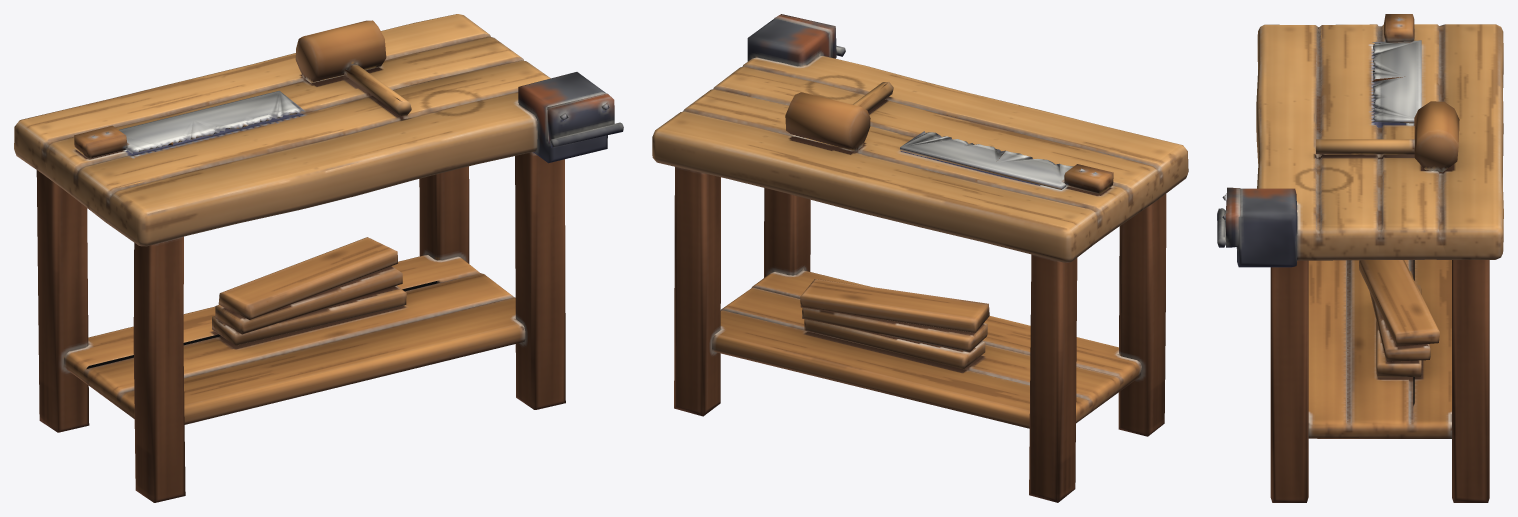
File: crafting_table.glb
The picture shows the model from 3 angles, left to right: view 1: azimuth 30°, elevation 25°; view 2: azimuth 150°, elevation 25°; view 3: azimuth 270°, elevation 25°; orthographic projection. The views are drawn at different scales.
Visible parts, largest first — view 1: crafting_table; view 2: crafting_table; view 3: crafting_table.
Part boxes in pixels (box(x1,y1,x2,y2)): crafting_table: box(14, 14, 623, 502); crafting_table: box(652, 14, 1188, 502); crafting_table: box(1217, 14, 1503, 502).
Size of the model in its own units: 1.33 by 0.9497 by 0.7594.
Materials: 1 (1 with a texture image).
